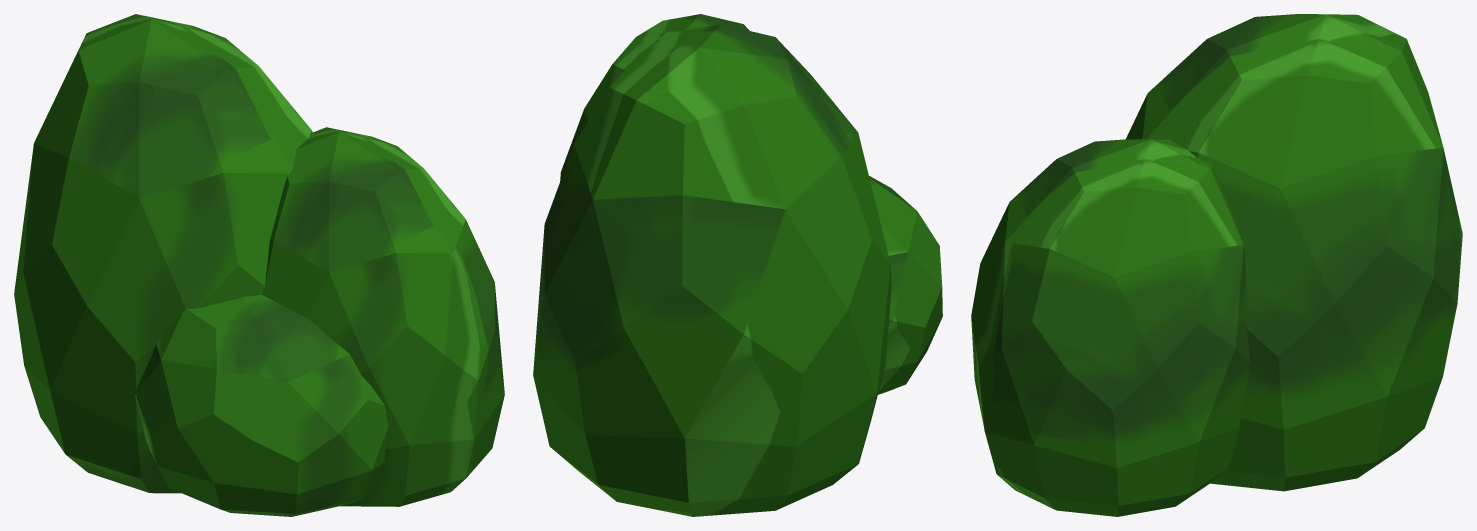
File: pedras.fbx
3 views of the same model, side by side, from view 1: azimuth 30°, elevation 25°; view 2: azimuth 150°, elevation 25°; view 3: azimuth 270°, elevation 25° (orthographic). The views are drawn at different scales.
Parts seen in each view (by area): view 1: pedra.005; view 2: pedra.005; view 3: pedra.005.
Part boxes in pixels (x1,y1,x2,y2): pedra.005: (14, 14, 504, 516); pedra.005: (533, 14, 942, 516); pedra.005: (971, 14, 1462, 516).
Bounding box in the file's own units: 787 × 888 × 923.
